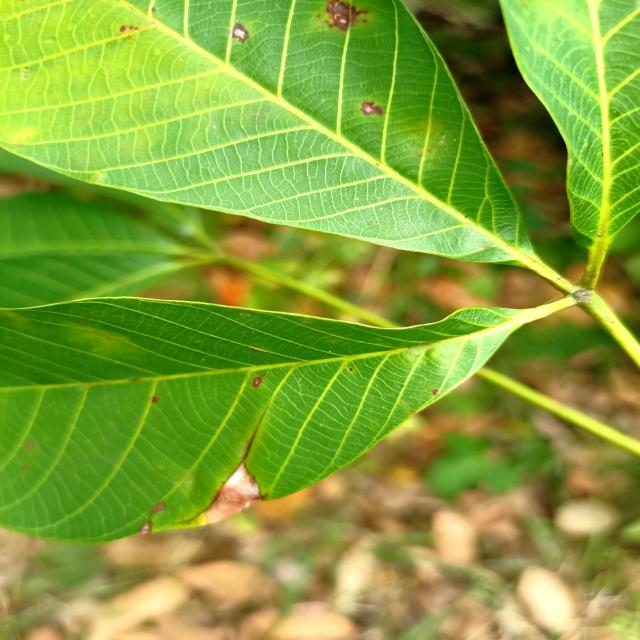Colletotrichum: (349, 368, 353, 371), (328, 342, 332, 343)
Corynespora: (240, 405, 271, 463)
Leaf-Blight: (198, 462, 262, 524)
